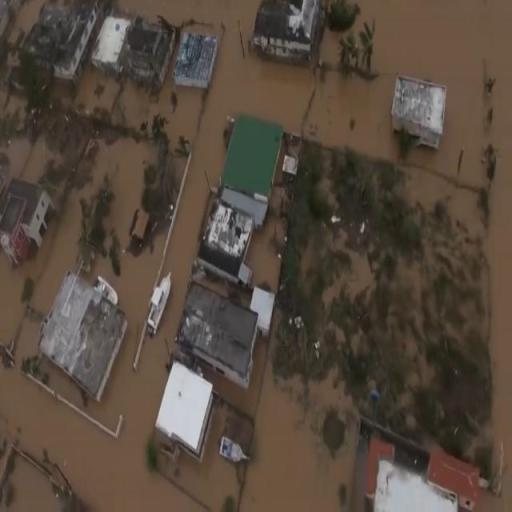flood: (0, 0, 512, 512), (215, 338, 359, 512), (162, 407, 237, 512), (0, 87, 52, 194), (0, 455, 60, 512), (246, 213, 285, 294), (5, 0, 46, 43)
house: (32, 265, 139, 403), (217, 112, 290, 229), (182, 290, 259, 388), (152, 360, 216, 464), (189, 200, 263, 284), (22, 0, 88, 90), (253, 0, 328, 66), (0, 178, 56, 264), (390, 72, 446, 151), (426, 444, 484, 512), (124, 21, 169, 88), (93, 12, 131, 76)
